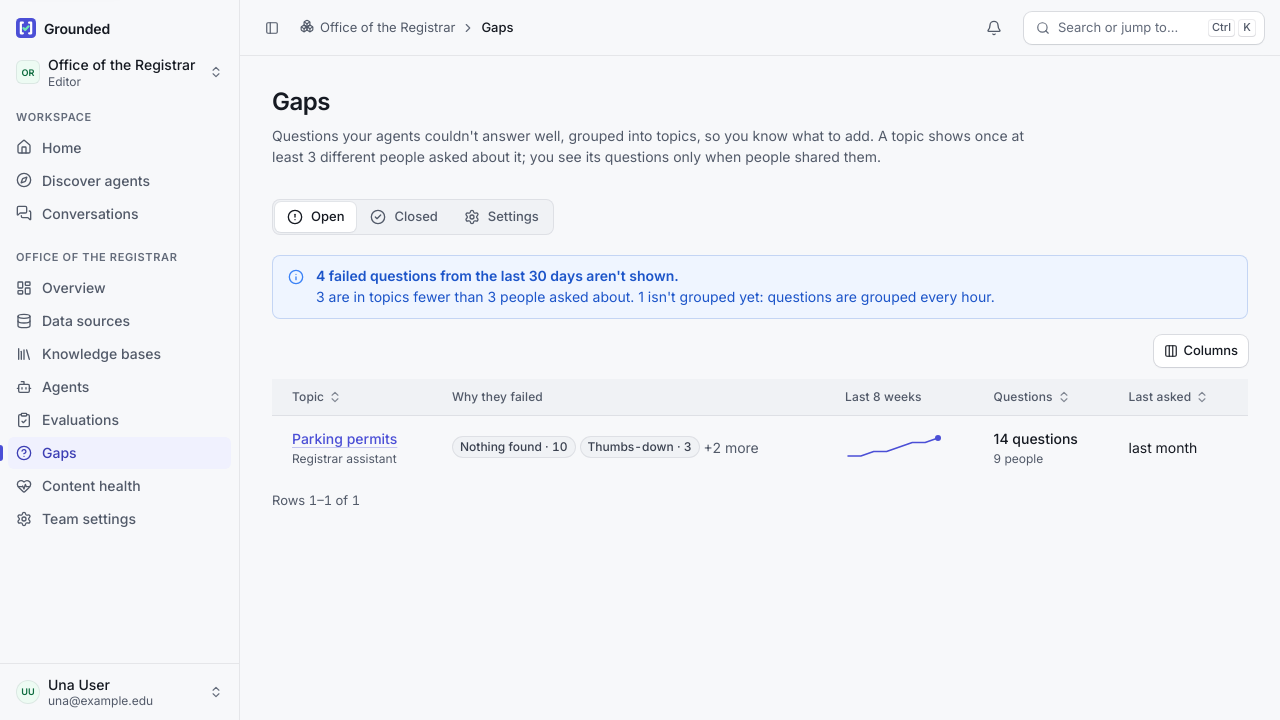
Test: the Gaps page › lists topics without question text, with signals and trend, beside Evaluations in the sidebar
Expected: the row "Parking permits" shows "Registrar assistant", x1=292 y1=451 x2=397 y2=466
Expected: the row "Parking permits" shows "Nothing found · 10", x1=272 y1=416 x2=1248 y2=479
Click the tab "Closed" at (404, 217), box x1=358 y1=202 x2=450 y2=232
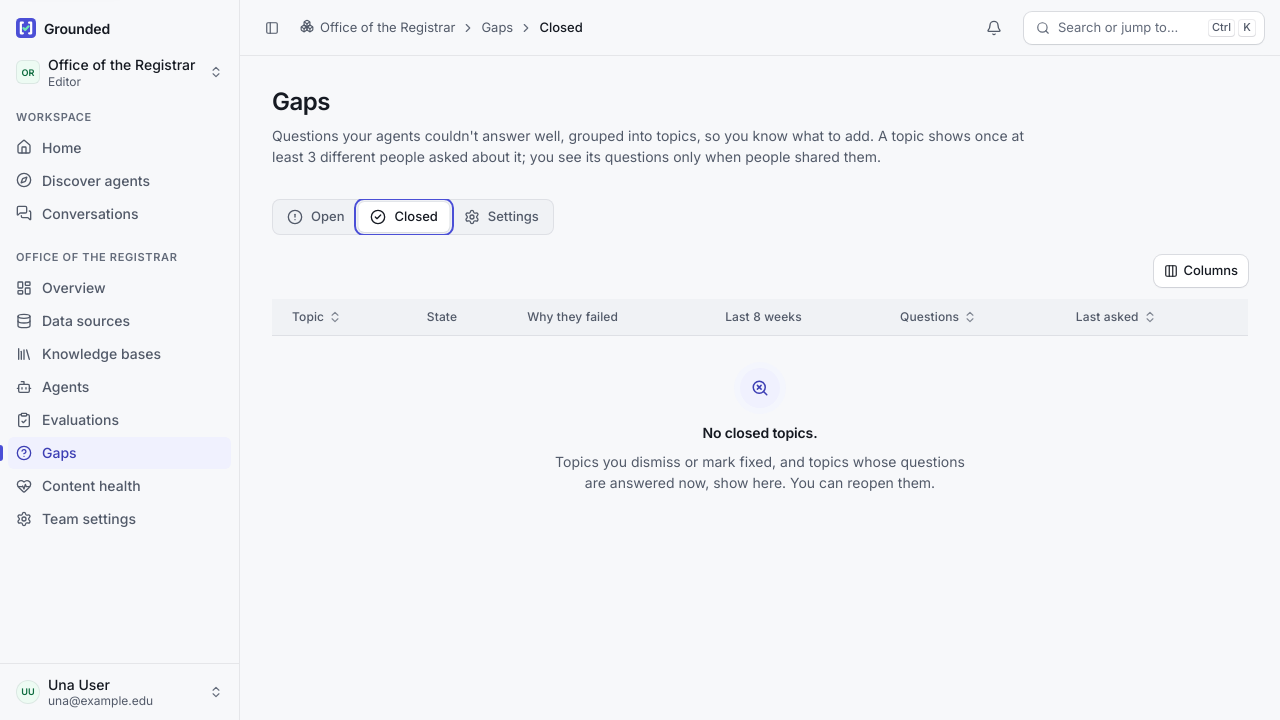
Expected: the text "No closed topics." is shown, x1=702 y1=424 x2=817 y2=443
